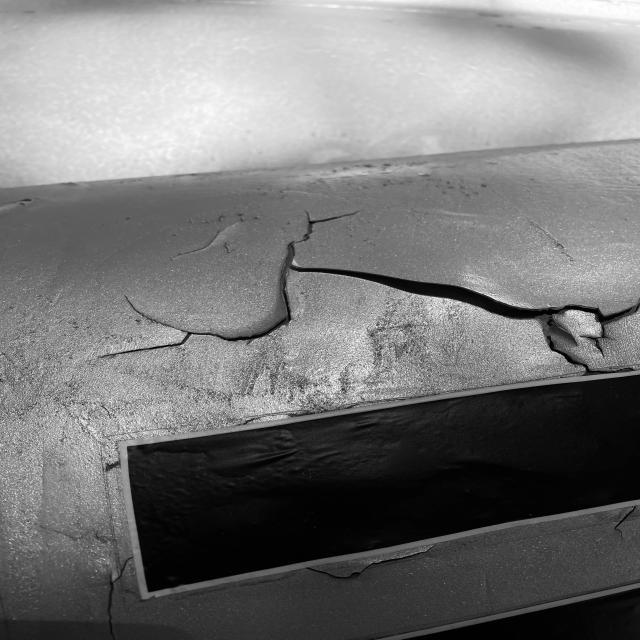crack: (289, 268, 640, 362), (114, 262, 292, 362), (264, 210, 364, 264)
